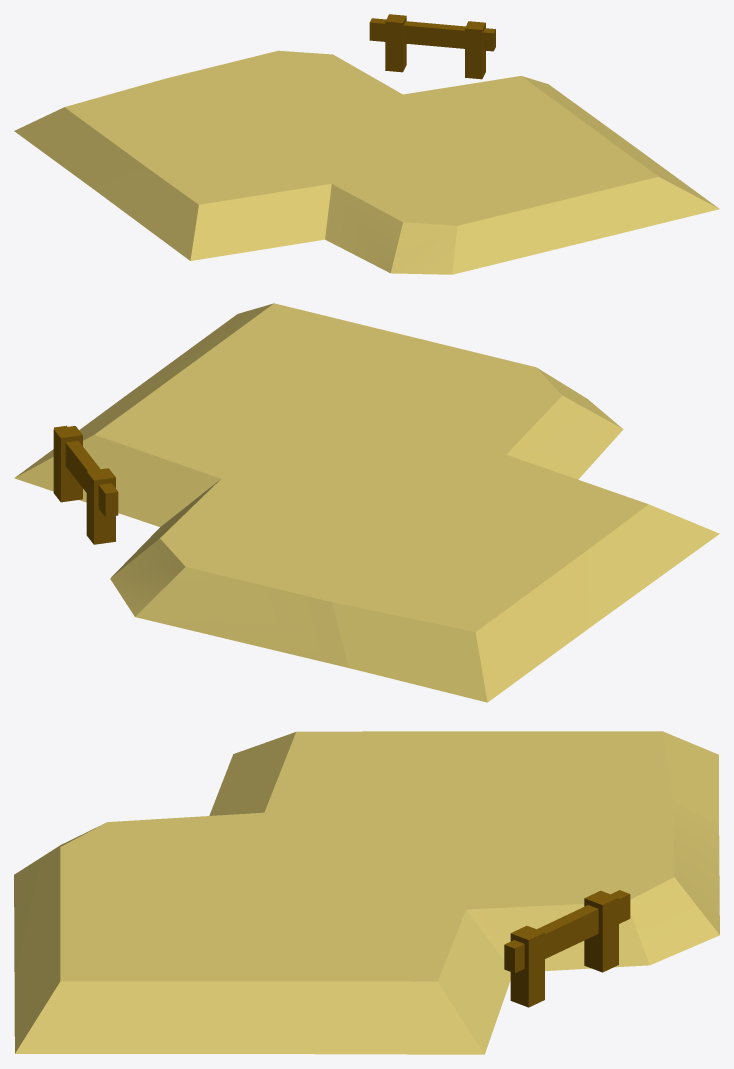
Rendered from FourWayHalfFilled_2.fbx.
The picture shows the model from 3 angles, top to bottom: view 1: azimuth 30°, elevation 25°; view 2: azimuth 150°, elevation 25°; view 3: azimuth 270°, elevation 25°; orthographic projection. The views are drawn at different scales.
Visible parts, largest first — view 1: Normal - Four Way Half Filled.002; view 2: Normal - Four Way Half Filled.002; view 3: Normal - Four Way Half Filled.002.
Part boxes in pixels (<box>): Normal - Four Way Half Filled.002: <box>14,14,719,274</box>; Normal - Four Way Half Filled.002: <box>14,303,719,702</box>; Normal - Four Way Half Filled.002: <box>14,731,719,1054</box>.
Size of the model in its own units: 151 by 19.61 by 150.
